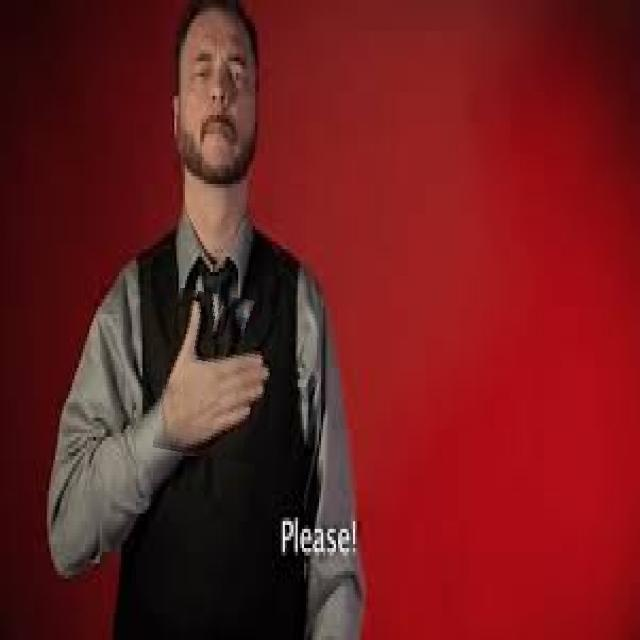Please: (158, 293, 276, 462)
